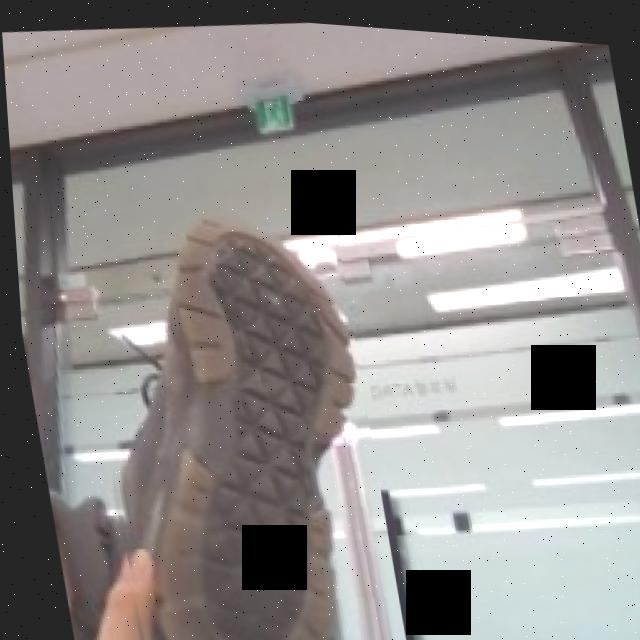shoe: (57, 193, 401, 640)
